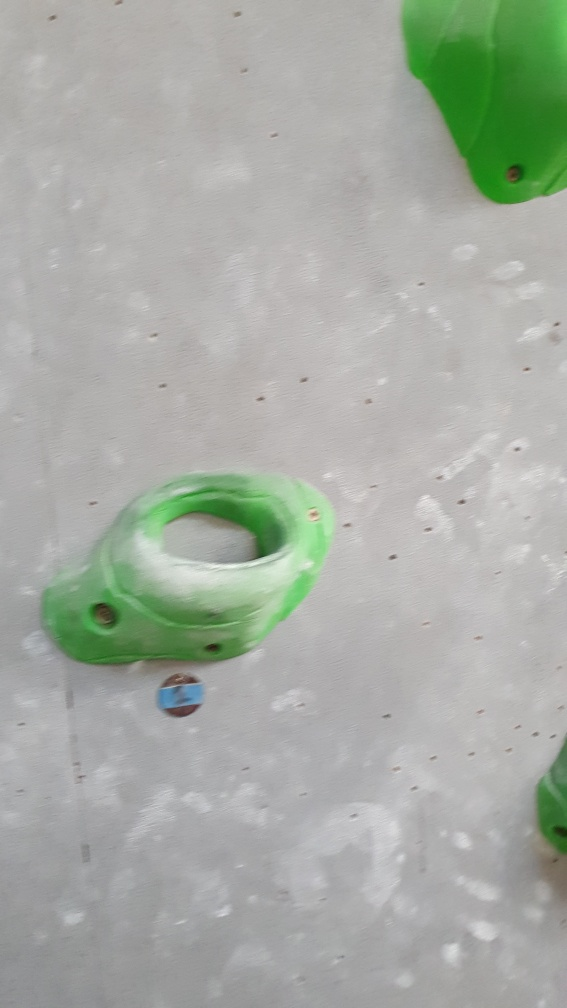Hand Start: (152, 669, 210, 719)
Pocket: (38, 459, 337, 670)
